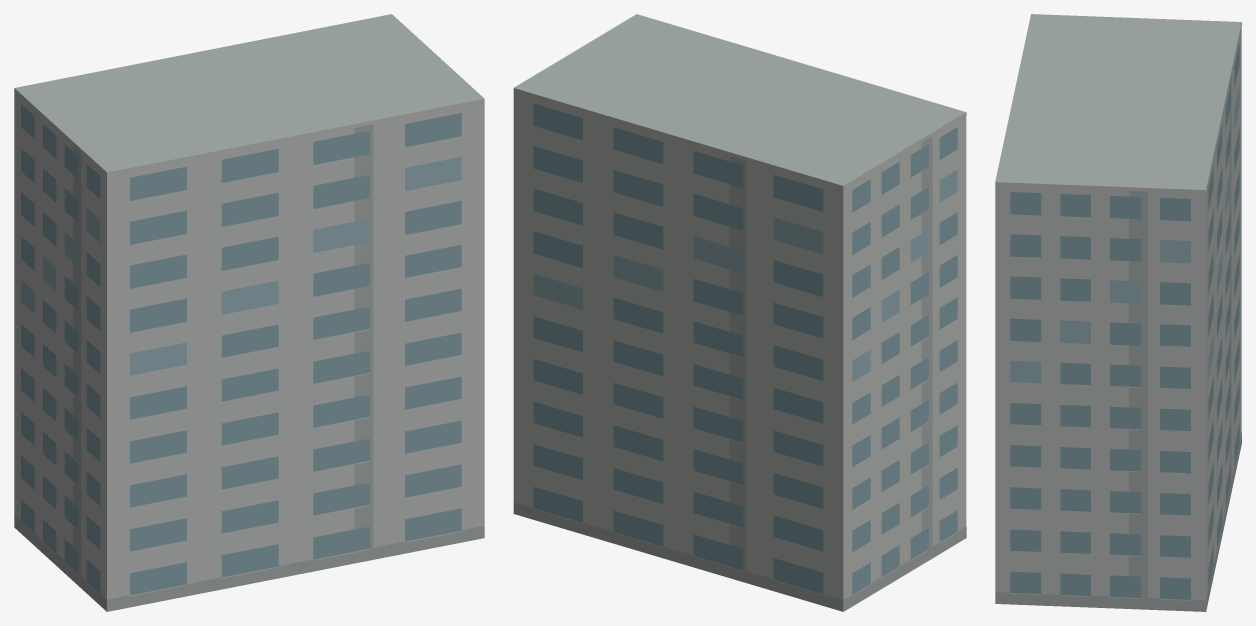
The model's file is residential-59fd43bf-2e73-4ebb-8f2c-09a1fcc4b4d9.glb.
3 views of the same model, side by side, from view 1: azimuth 30°, elevation 25°; view 2: azimuth 150°, elevation 25°; view 3: azimuth 270°, elevation 25° (orthographic). The views are drawn at different scales.
Parts seen in each view (by area): view 1: residential-59fd43bf-2e73-4ebb-8f2c-09a1fcc4b4d9.tmp; view 2: residential-59fd43bf-2e73-4ebb-8f2c-09a1fcc4b4d9.tmp; view 3: residential-59fd43bf-2e73-4ebb-8f2c-09a1fcc4b4d9.tmp.
Boxes of the visible parts, x1,y1,x2,y2 form: residential-59fd43bf-2e73-4ebb-8f2c-09a1fcc4b4d9.tmp: (14,14,484,611); residential-59fd43bf-2e73-4ebb-8f2c-09a1fcc4b4d9.tmp: (513,14,966,611); residential-59fd43bf-2e73-4ebb-8f2c-09a1fcc4b4d9.tmp: (995,14,1241,611).
Size of the model in its own units: 25.09 by 28 by 14.85.
